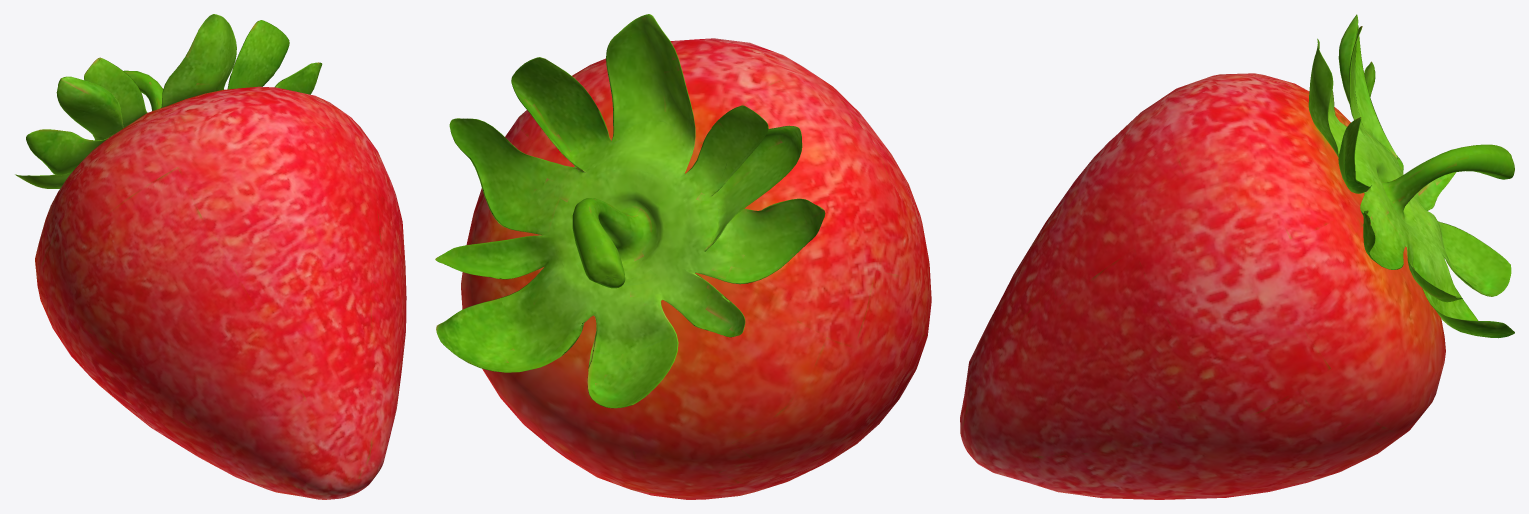
Rendered from strawberry.glb.
3 renders of one model, left to right at view 1: azimuth 30°, elevation 25°; view 2: azimuth 150°, elevation 25°; view 3: azimuth 270°, elevation 25°, orthographic. The views are drawn at different scales.
Parts seen in each view (by area): view 1: tripo_node_6d8fa1bd-ba99-4bea-aed6-04aba2c8e093; view 2: tripo_node_6d8fa1bd-ba99-4bea-aed6-04aba2c8e093; view 3: tripo_node_6d8fa1bd-ba99-4bea-aed6-04aba2c8e093.
Part boxes in pixels (x1,y1,x2,y2): tripo_node_6d8fa1bd-ba99-4bea-aed6-04aba2c8e093: [15, 14, 406, 499]; tripo_node_6d8fa1bd-ba99-4bea-aed6-04aba2c8e093: [435, 14, 931, 499]; tripo_node_6d8fa1bd-ba99-4bea-aed6-04aba2c8e093: [960, 14, 1514, 499].
Bounding box in the file's own units: 0.7612 × 0.9058 × 0.9995.
Materials: 1 (1 with a texture image).
